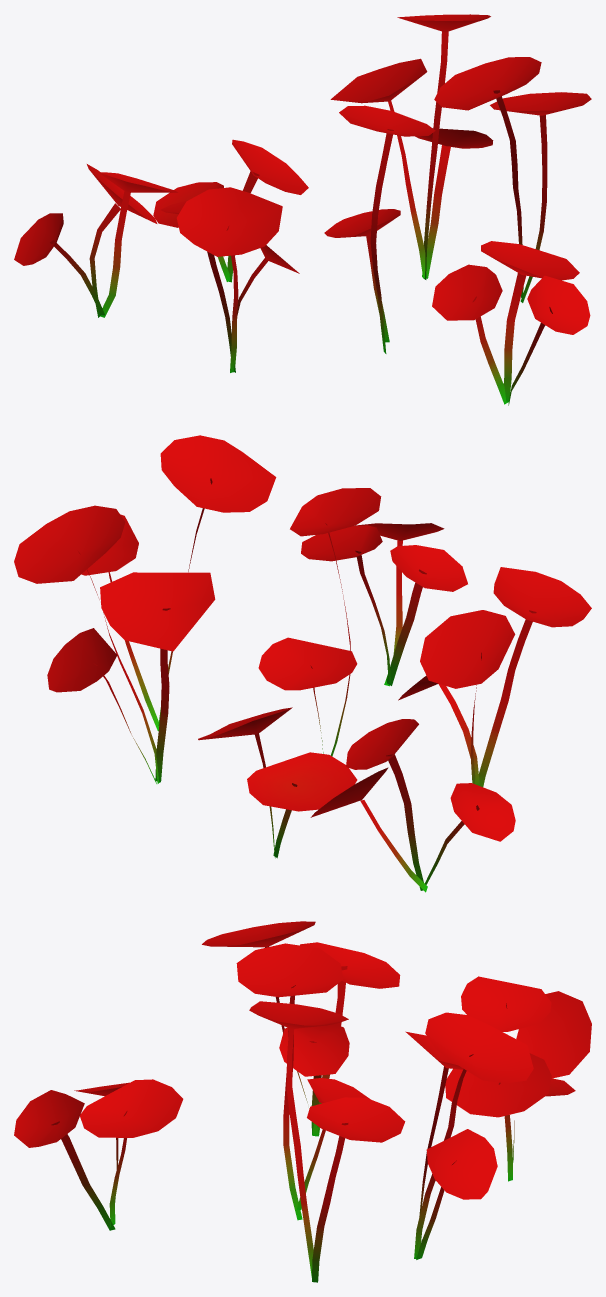
Rendered from Native Violet_LOD3_Var9_ultkcfeja.fbx.
The picture shows the model from 3 angles, top to bottom: view 1: azimuth 30°, elevation 25°; view 2: azimuth 150°, elevation 25°; view 3: azimuth 270°, elevation 25°; orthographic projection. The views are drawn at different scales.
Parts seen in each view (by area): view 1: _bji7_Var9_LOD3; view 2: _bji7_Var9_LOD3; view 3: _bji7_Var9_LOD3.
Part boxes in pixels (box(x1,y1,x2,y2)): _bji7_Var9_LOD3: box(14, 14, 591, 405); _bji7_Var9_LOD3: box(14, 435, 591, 892); _bji7_Var9_LOD3: box(14, 921, 591, 1282).
Bounding box in the file's own units: 26.37 × 13.42 × 25.72.
